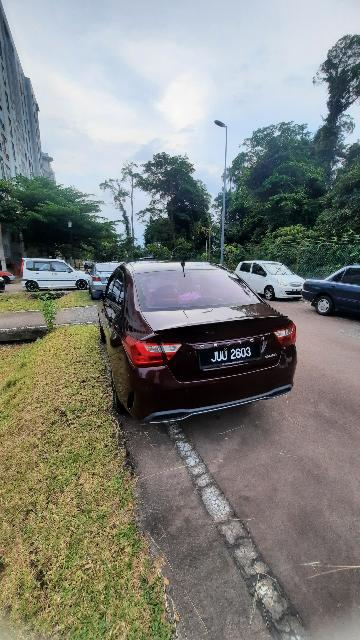License_Plate: (188, 338, 267, 374)
car: (96, 248, 305, 442)
